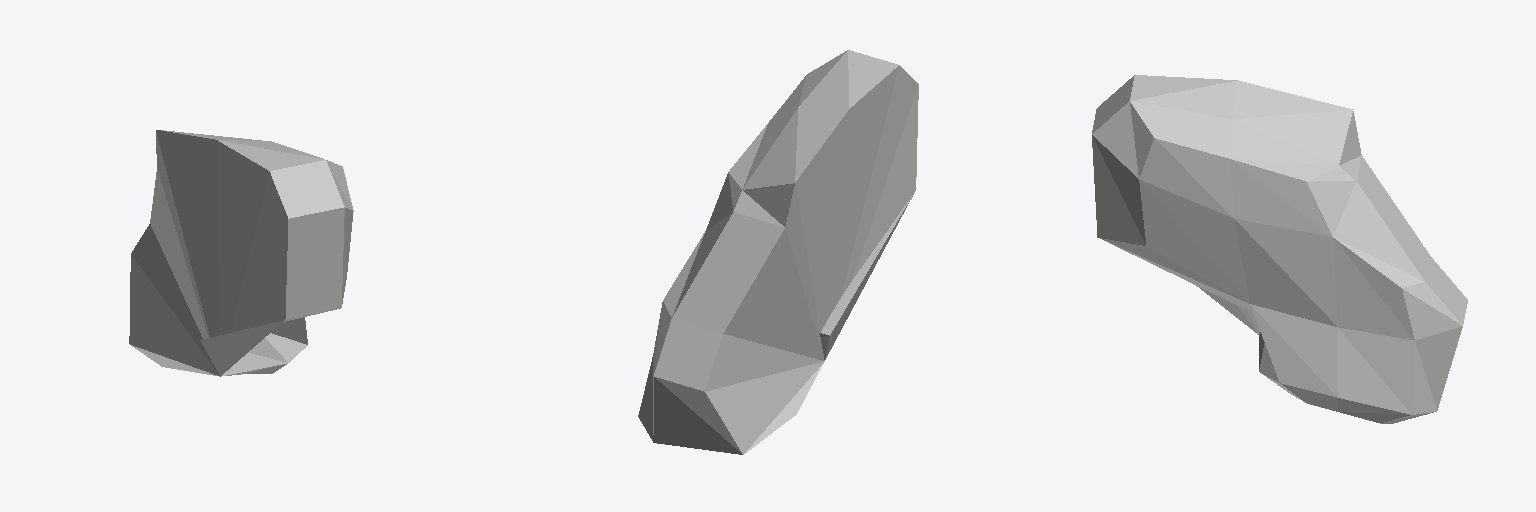
File: spinosaurusShoulderLeftOfficial.obj
The picture shows the model from 3 angles: view 1: azimuth 30°, elevation 25°; view 2: azimuth 150°, elevation 25°; view 3: azimuth 270°, elevation 25°; orthographic projection.
Parts seen in each view (by area): view 1: UpperArn.left_Cube.002; view 2: UpperArn.left_Cube.002; view 3: UpperArn.left_Cube.002.
Boxes of the visible parts, x1,y1,x2,y2 form: UpperArn.left_Cube.002: [129, 130, 353, 376]; UpperArn.left_Cube.002: [638, 50, 918, 454]; UpperArn.left_Cube.002: [1092, 75, 1467, 423].
Bounding box in the file's own units: 0.3504 × 0.8004 × 0.8955.